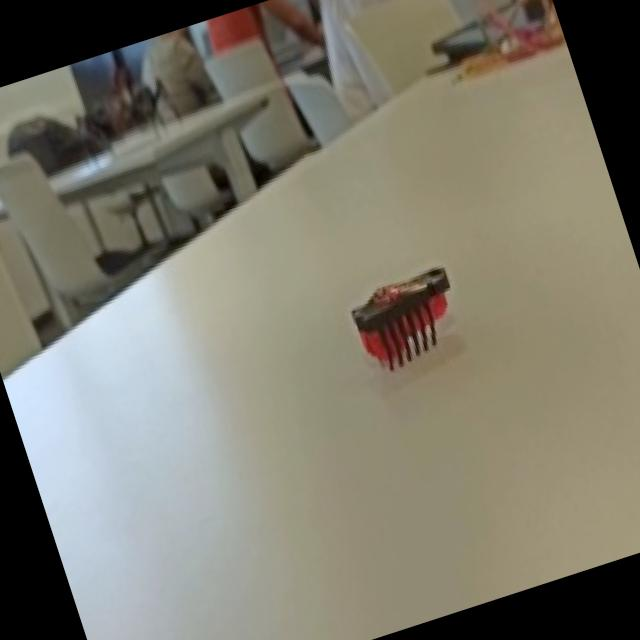2_NanoBug_Negro: (313, 234, 502, 402)
